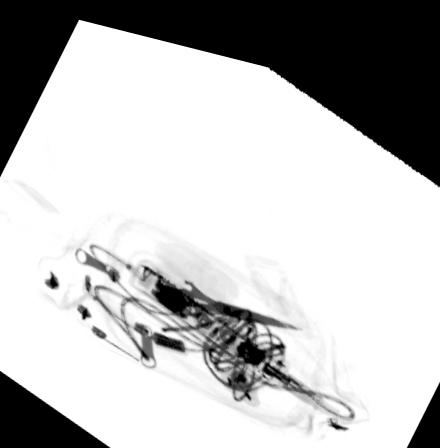Scissors: (128, 250, 303, 331)
